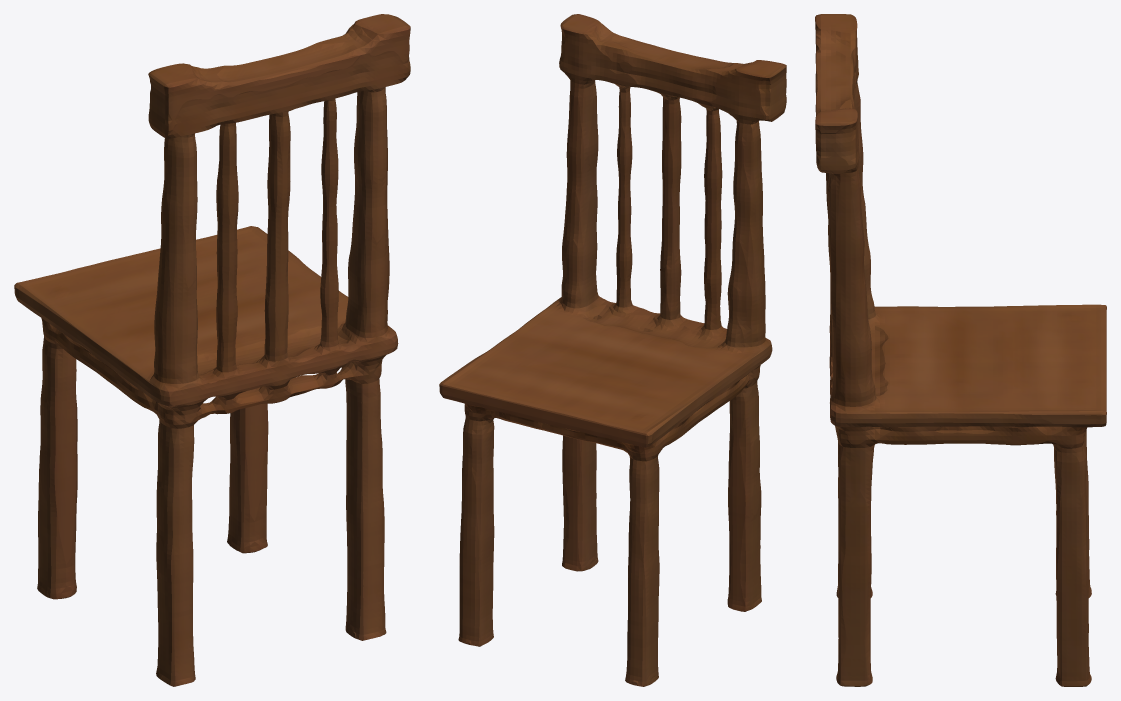
The model's file is wood_chair.glb.
3 renders of one model, left to right at view 1: azimuth 30°, elevation 25°; view 2: azimuth 150°, elevation 25°; view 3: azimuth 270°, elevation 25°, orthographic. The views are drawn at different scales.
Visible parts, largest first — view 1: tmpb_kv1rdp.ply; view 2: tmpb_kv1rdp.ply; view 3: tmpb_kv1rdp.ply.
Part boxes in pixels (box(x1,y1,x2,y2)): tmpb_kv1rdp.ply: box(14, 14, 410, 686); tmpb_kv1rdp.ply: box(439, 14, 786, 686); tmpb_kv1rdp.ply: box(815, 14, 1106, 686).
Size of the model in its own units: 0.8332 by 1.98 by 0.9212.
